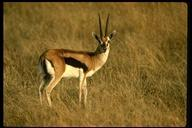antelope: (36, 10, 117, 110)
grass: (116, 4, 185, 125), (6, 4, 89, 46)
